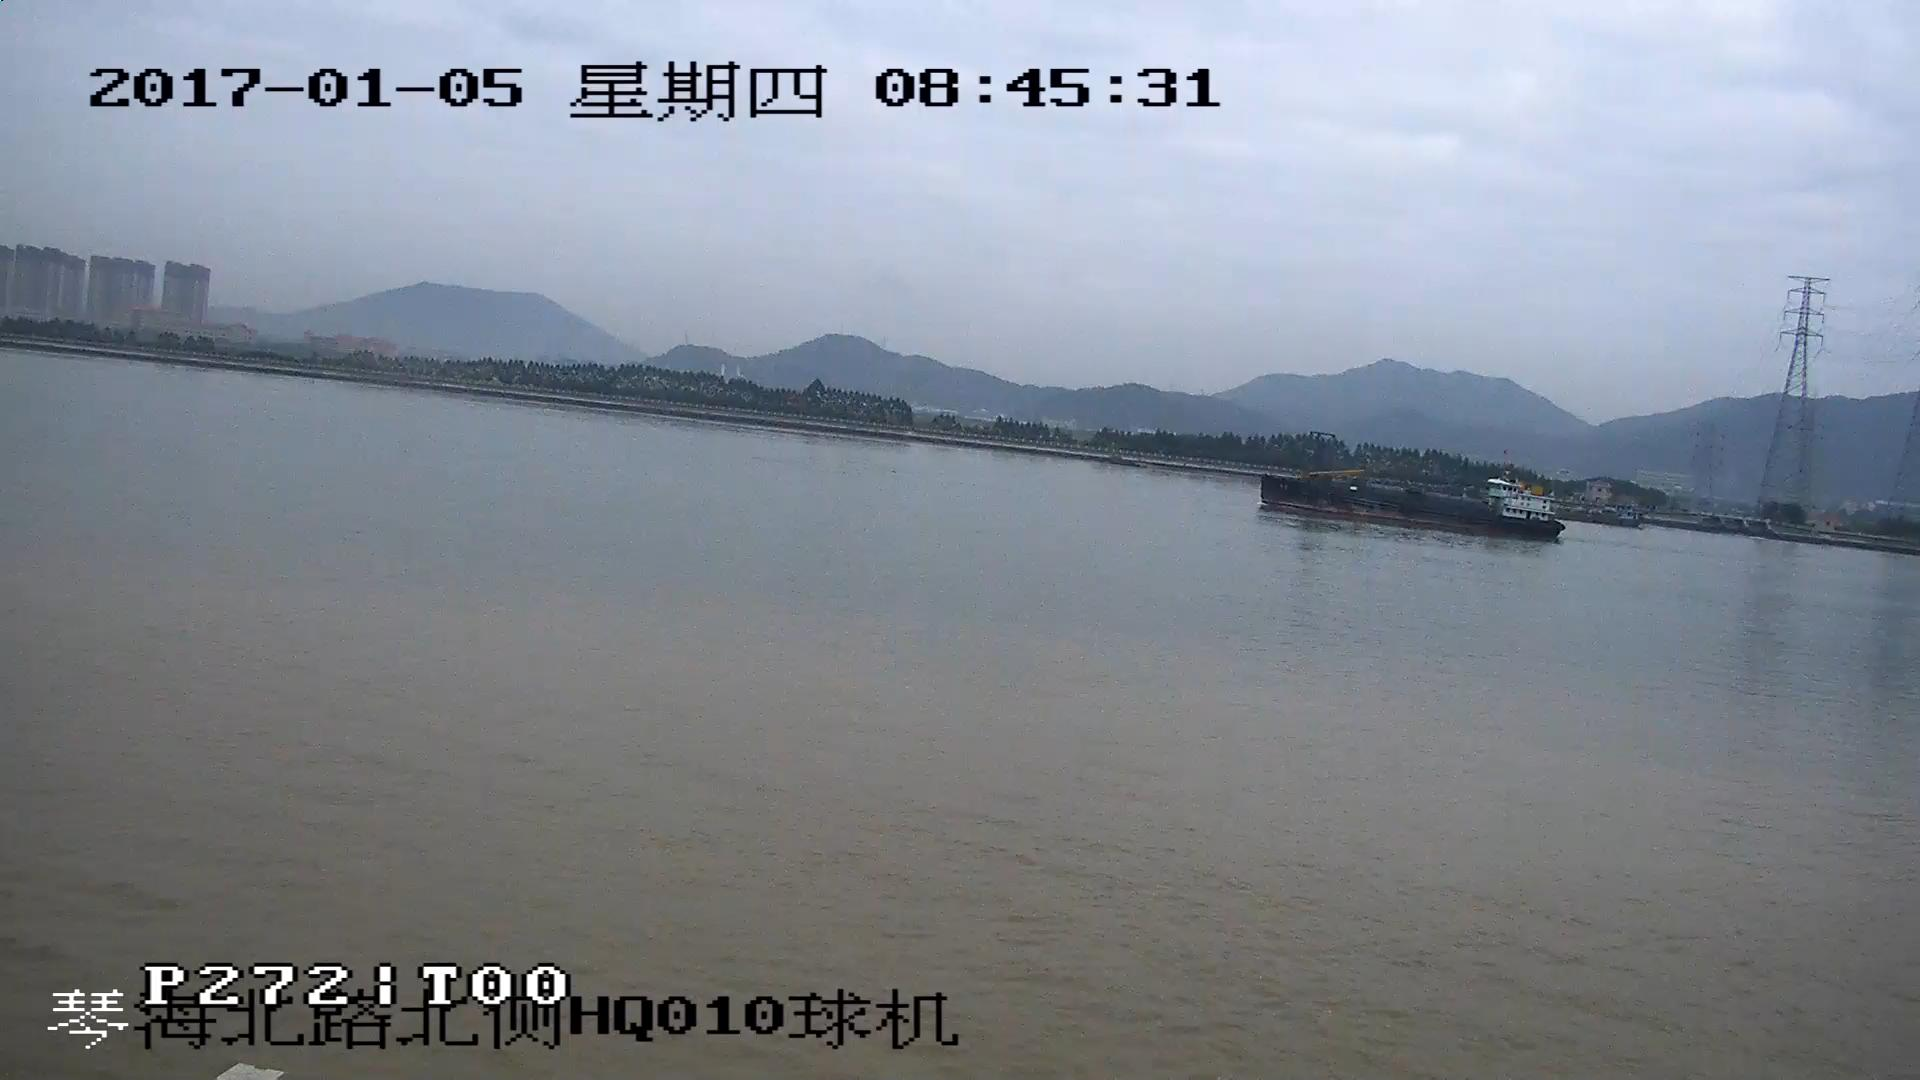bulk cargo carrier: (1260, 433, 1567, 538)
